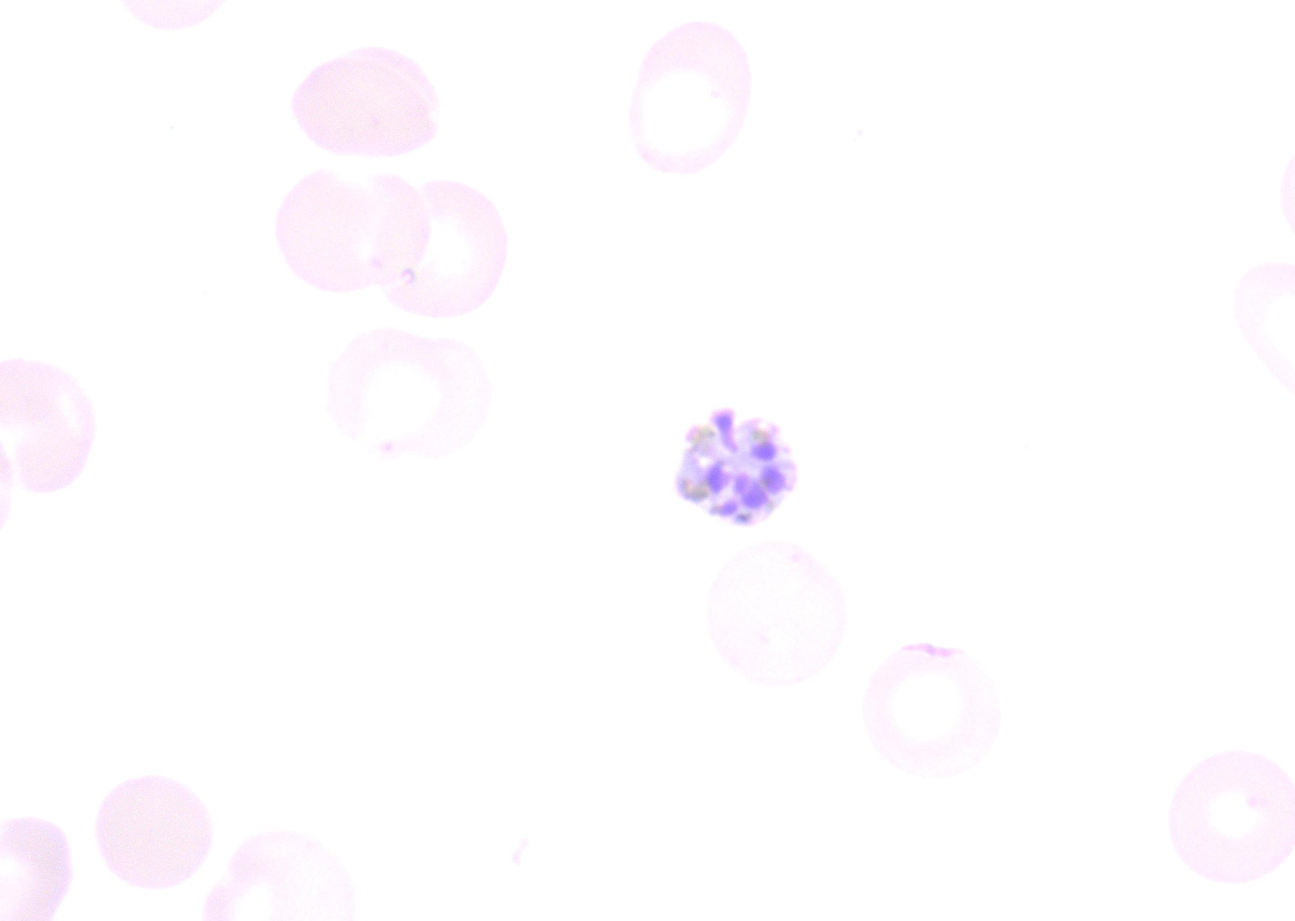Infected: (671, 404, 800, 529)
Uninfected: (325, 324, 494, 459), (709, 540, 849, 687), (625, 20, 754, 177), (367, 179, 511, 319), (276, 167, 433, 290), (862, 643, 999, 777), (1168, 750, 1295, 884), (292, 44, 440, 156), (96, 772, 213, 889), (0, 360, 98, 493), (228, 832, 360, 921)
